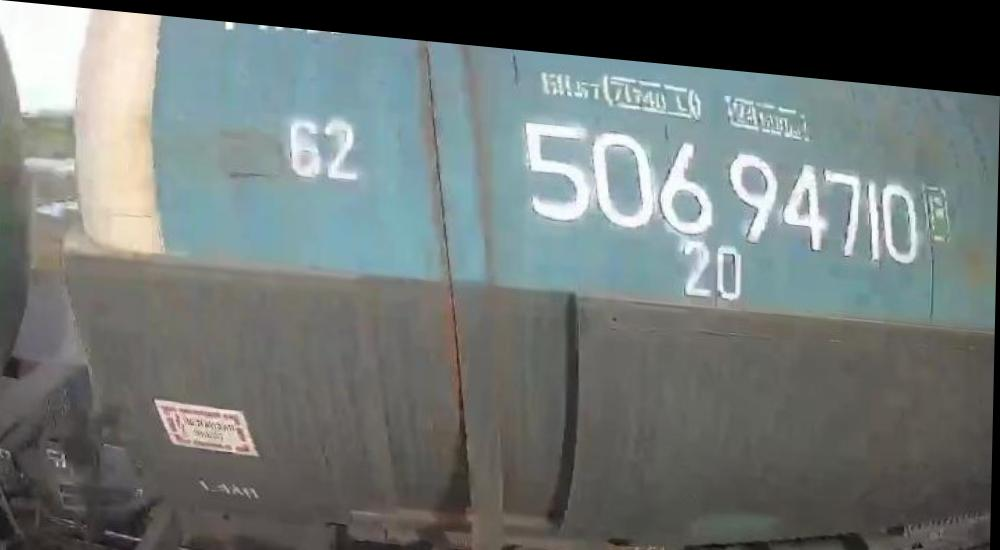Wagon-number: (519, 104, 926, 250)
